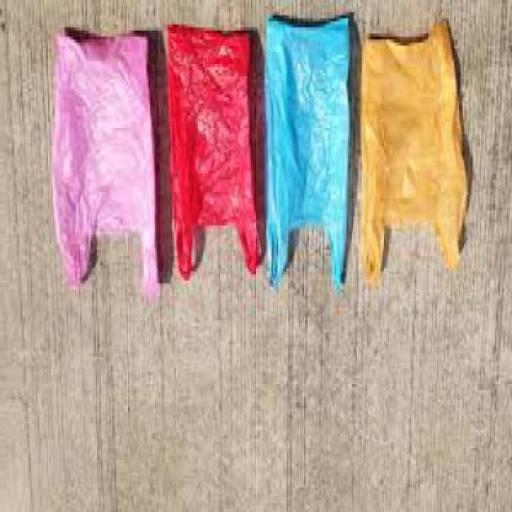plastic: (362, 18, 471, 287), (54, 30, 160, 292), (169, 25, 263, 283), (268, 15, 354, 290)
